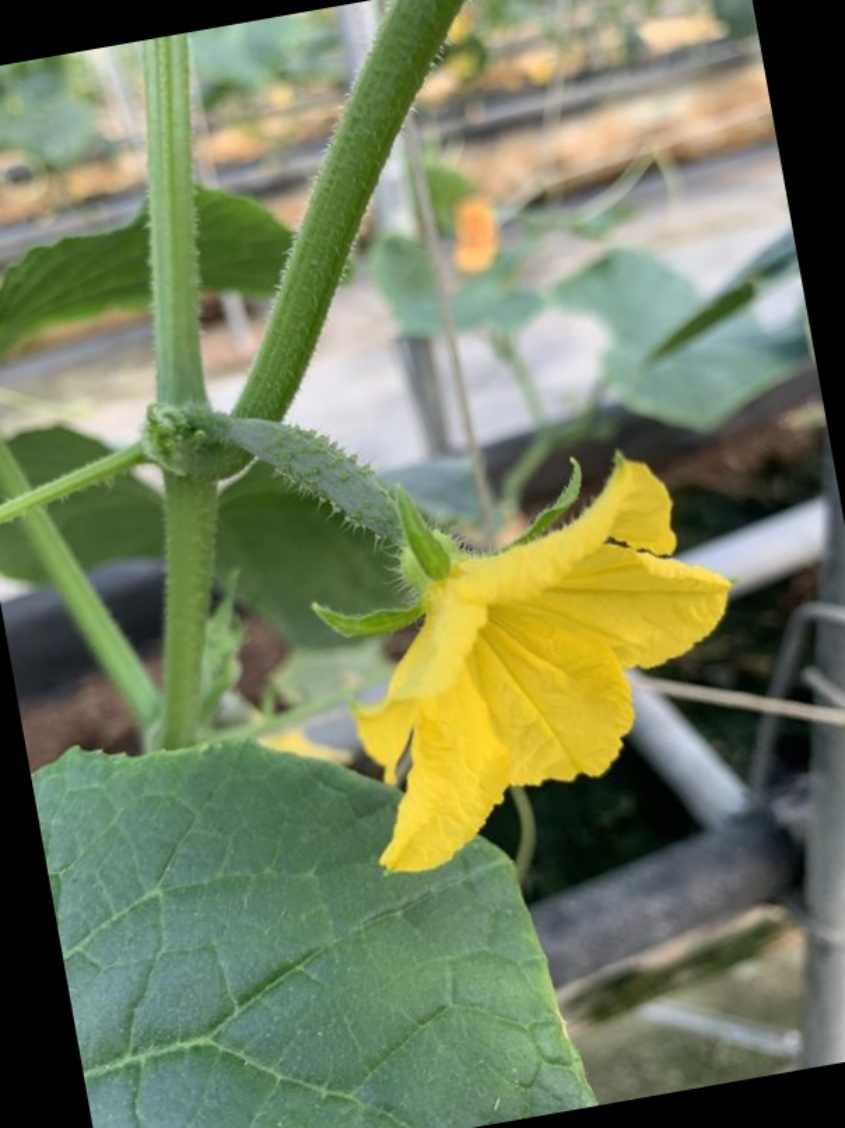flowering: (219, 342, 727, 846)
